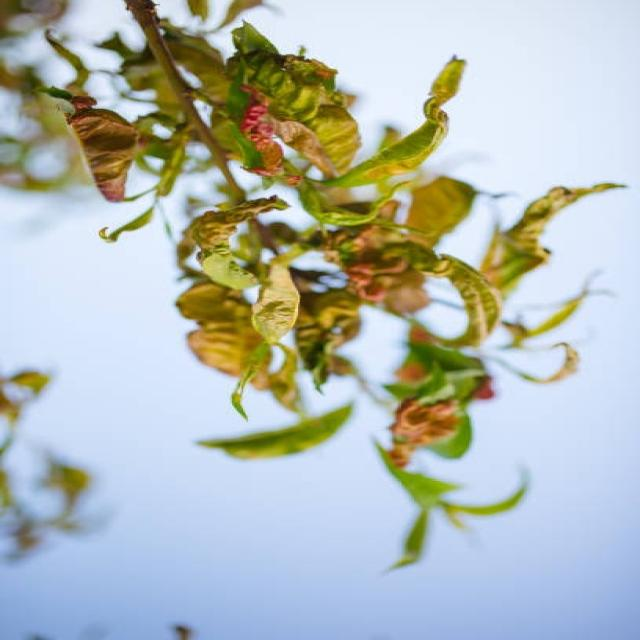peach_leaf_curl: (140, 0, 530, 379)
